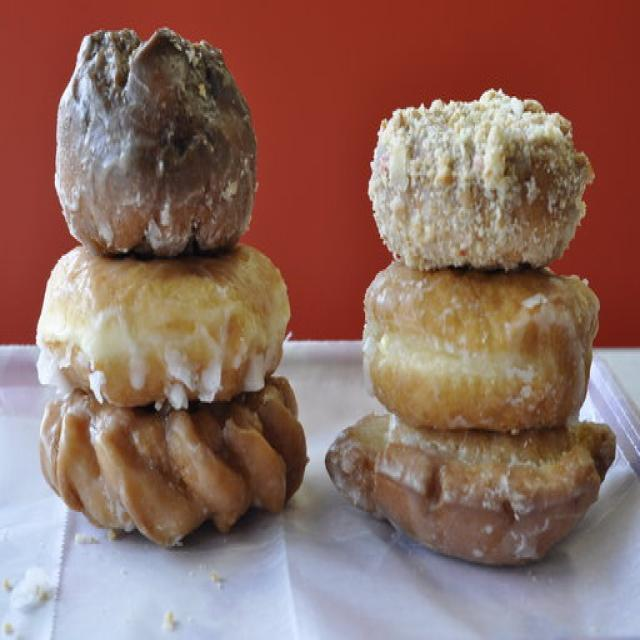Donuts: (34, 25, 640, 591)
